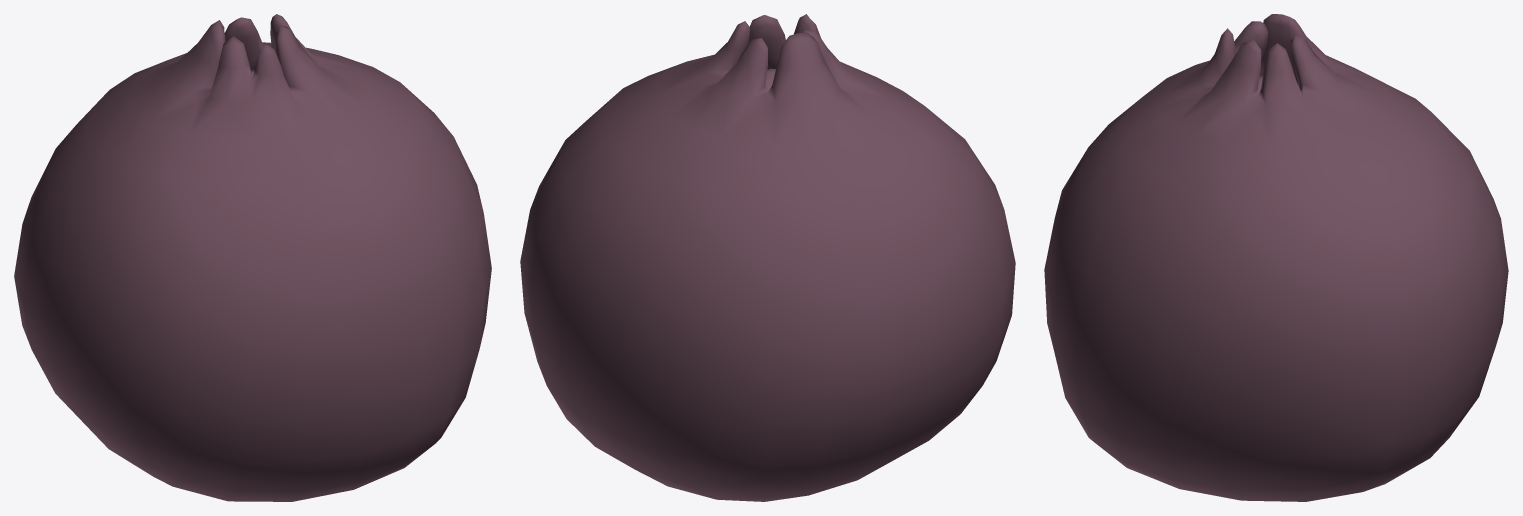
File: Pomegranate_03.dae
3 renders of one model, left to right at view 1: azimuth 30°, elevation 25°; view 2: azimuth 150°, elevation 25°; view 3: azimuth 270°, elevation 25°, orthographic. The views are drawn at different scales.
Visible parts, largest first — view 1: Pomegranate_03_LOD0; view 2: Pomegranate_03_LOD0; view 3: Pomegranate_03_LOD0.
Boxes of the visible parts, <box> form: Pomegranate_03_LOD0: <box>14,14,491,501</box>; Pomegranate_03_LOD0: <box>520,14,1015,501</box>; Pomegranate_03_LOD0: <box>1044,14,1508,501</box>.
Size of what is drawn, in the model's own units: 3.83 by 3.76 by 3.95.
